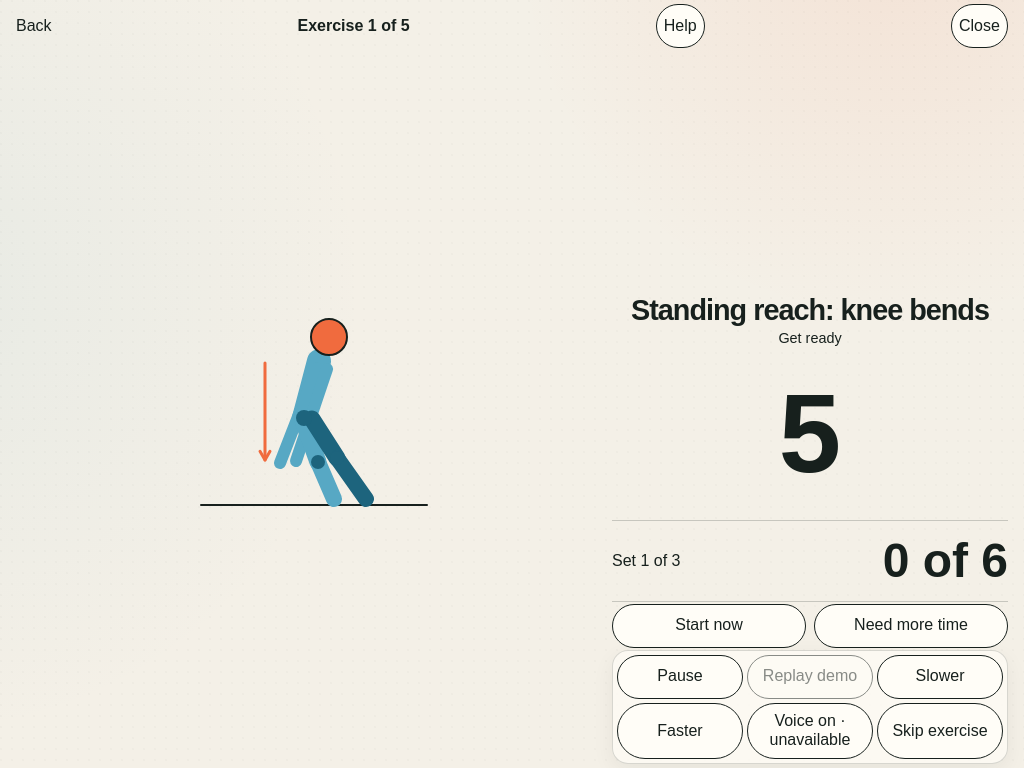
Scenario: SessionPlayer › keeps Replay discoverable but disabled during preparation and a paused preparation target
The width and height of the screenshot is (1024, 768).
Expected: the button "Replay demo" is disabled, [747,655,873,699]
What coordinates should you click on to do the following:
click the button "Pause"
I would click on:
 (680, 677)
Its box is [617,655,743,699].
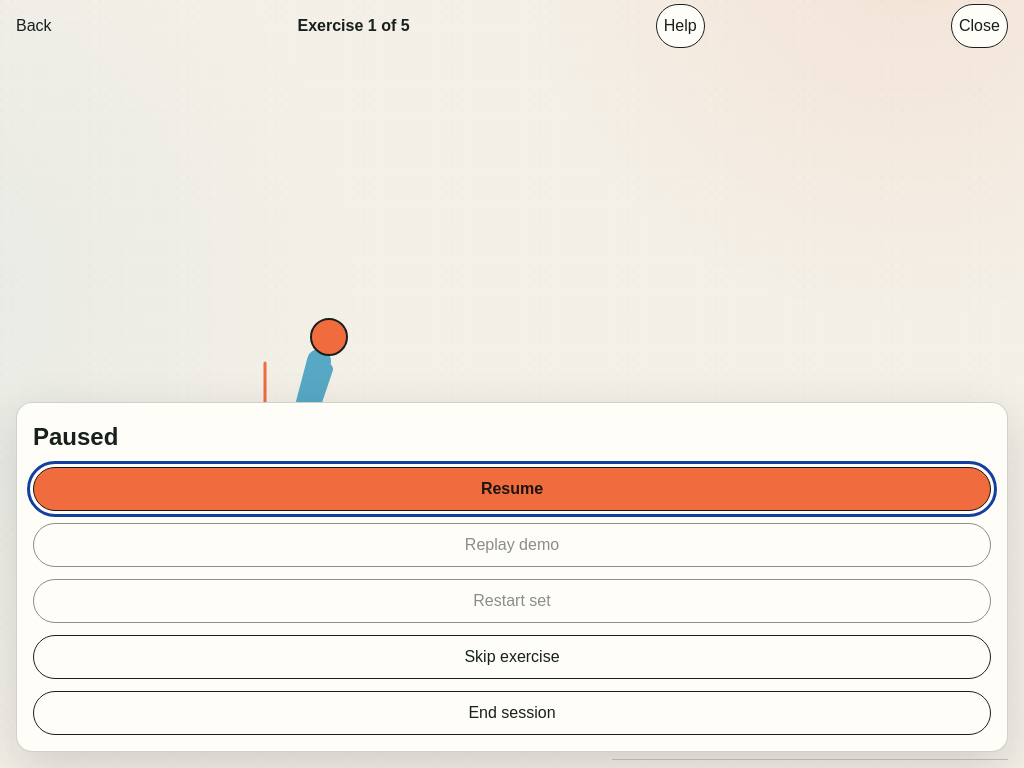
Expected: the button "Replay demo" is disabled, [33,523,991,567]
Now the button "Restart set" is disabled, box [33,579,991,623]
